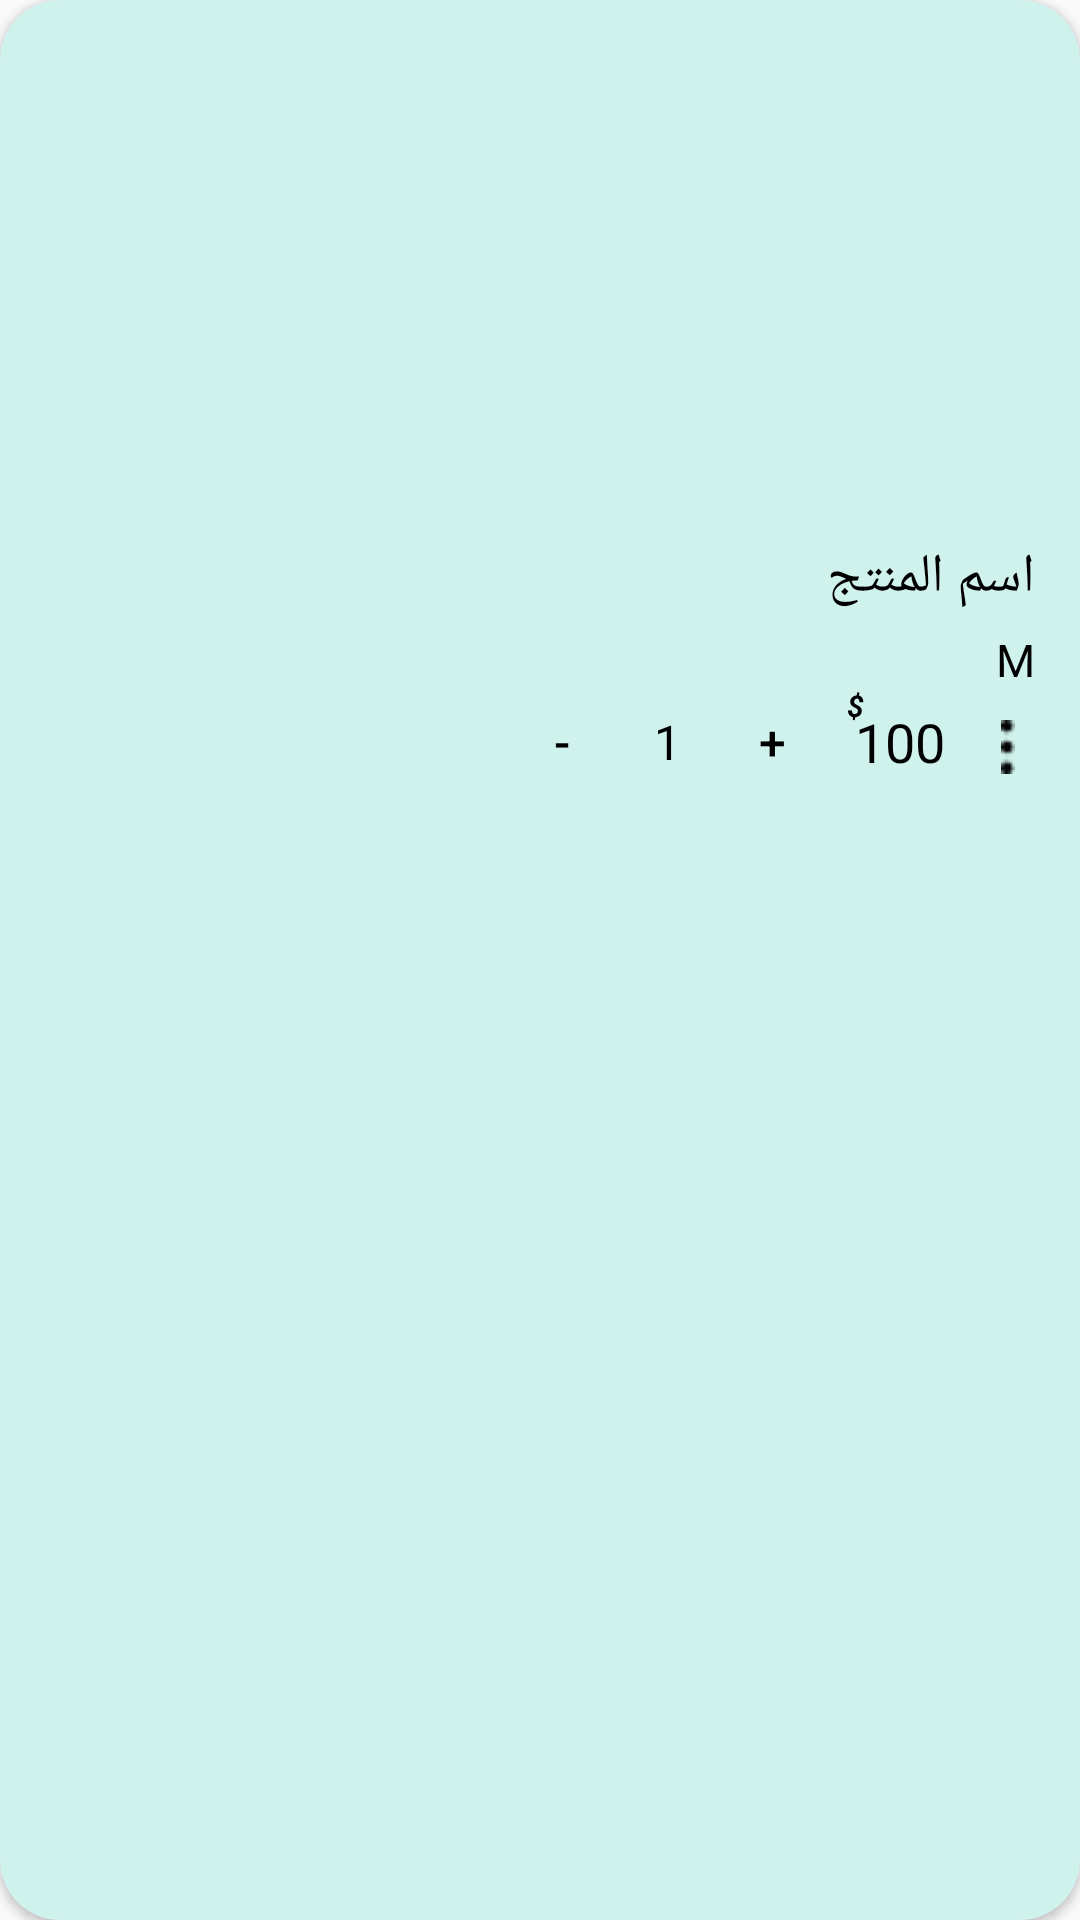

Screen size 1080x1920. Icon name, then its box in pixels as (x1, y1, x2, y2):
menu: (1001, 720, 1015, 774)
